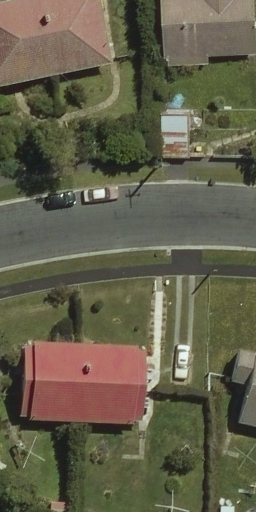DT: (138, 157, 175, 183)
